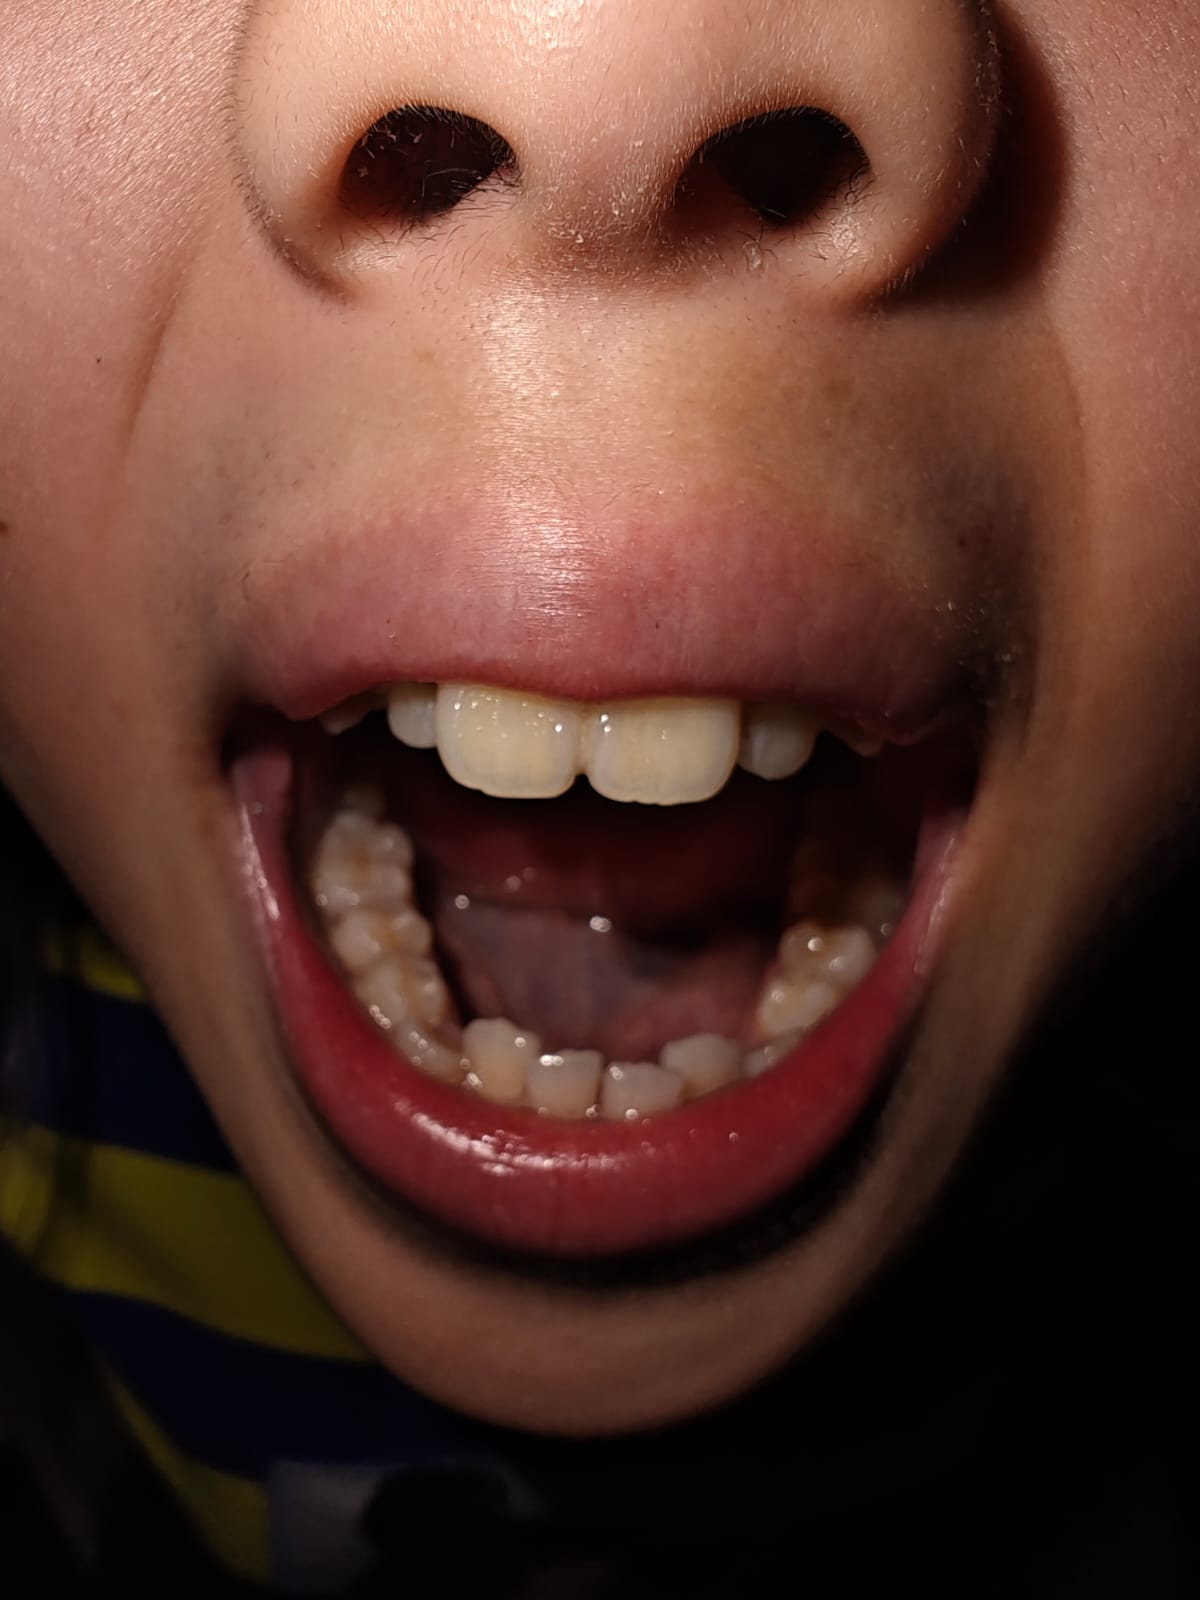teeth: (431, 679, 590, 797), (592, 695, 744, 810), (316, 808, 427, 913), (800, 829, 887, 934), (460, 1017, 528, 1117), (780, 917, 870, 991), (746, 698, 818, 784), (344, 911, 440, 975), (594, 1060, 684, 1117), (364, 964, 440, 1028), (669, 1026, 742, 1091), (761, 978, 829, 1047), (412, 1003, 464, 1090), (532, 1043, 597, 1110), (387, 671, 421, 748), (747, 1041, 792, 1075)
